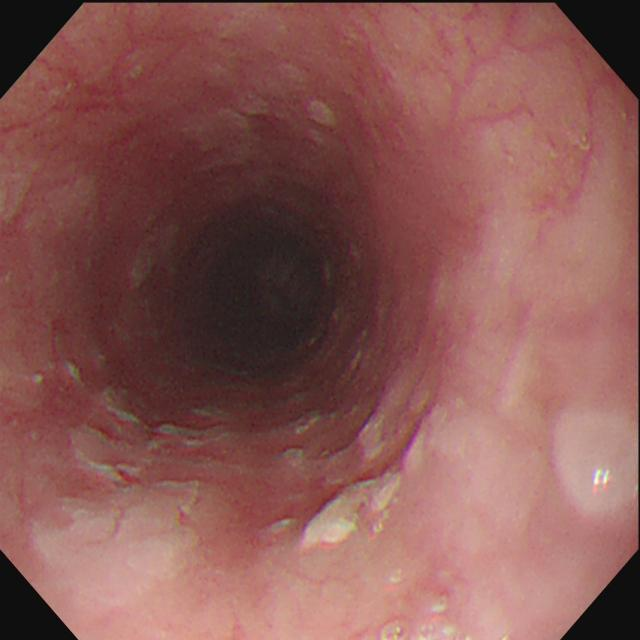E: (173, 197, 335, 376)
J: (34, 401, 229, 607), (274, 405, 404, 556)
T: (377, 616, 414, 640)
